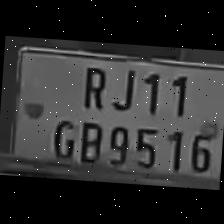1: (162, 68, 192, 120), (134, 65, 164, 116), (157, 124, 186, 172)
5: (129, 122, 161, 168)
6: (184, 122, 218, 174)
9: (103, 119, 132, 166)
B: (74, 117, 104, 164)
G: (46, 113, 78, 160)
J: (107, 60, 136, 113)
R: (76, 57, 110, 112)
